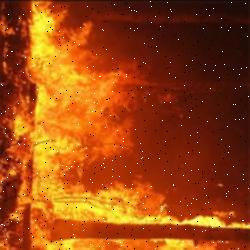fire: (0, 2, 142, 250), (144, 183, 250, 250)
